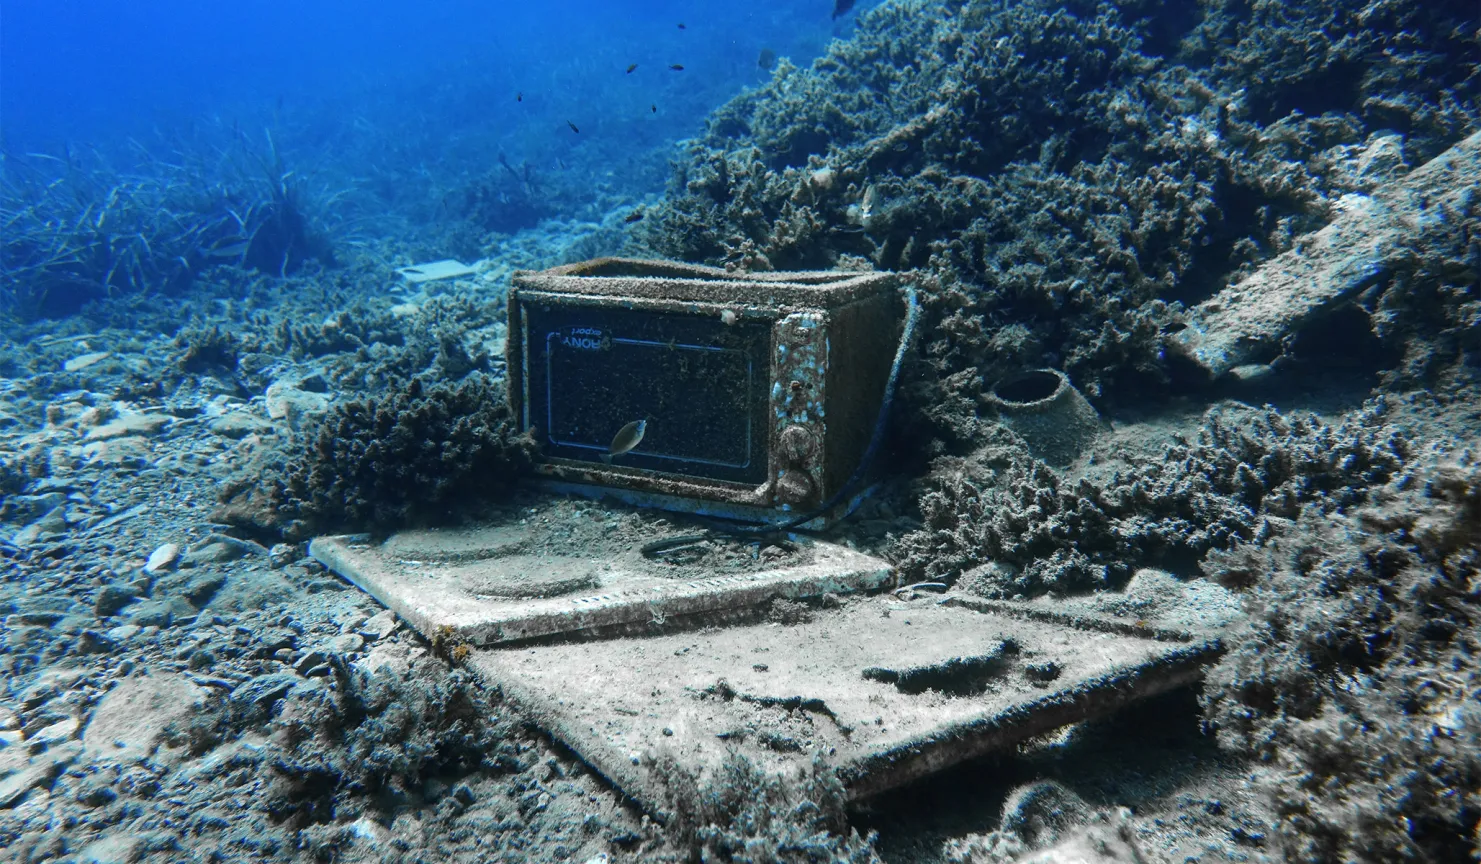Metal: (295, 487, 1237, 843), (506, 244, 929, 534), (969, 355, 1114, 470)
